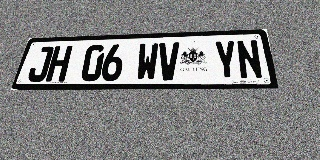0: (80, 45, 106, 81)
6: (100, 44, 125, 81)
H: (45, 46, 73, 82)
J: (26, 46, 55, 82)
N: (236, 40, 264, 80)
V: (157, 42, 179, 80)
W: (135, 43, 159, 81)
Y: (213, 40, 239, 80)
